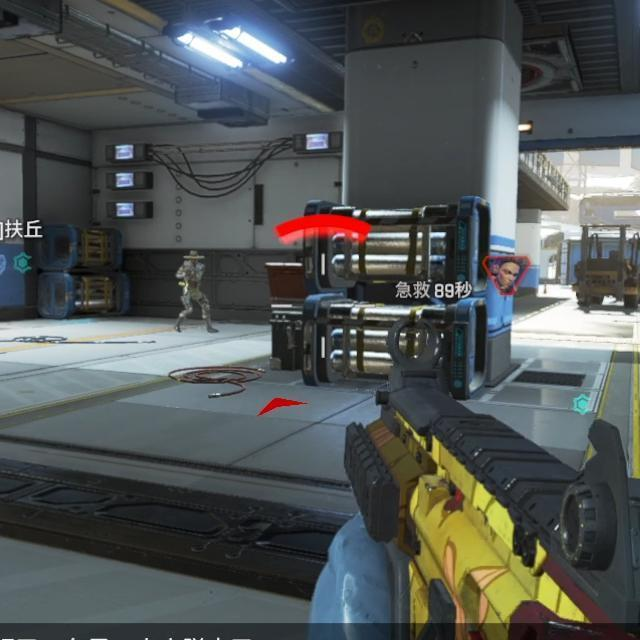avatar: (174, 249, 213, 335)
